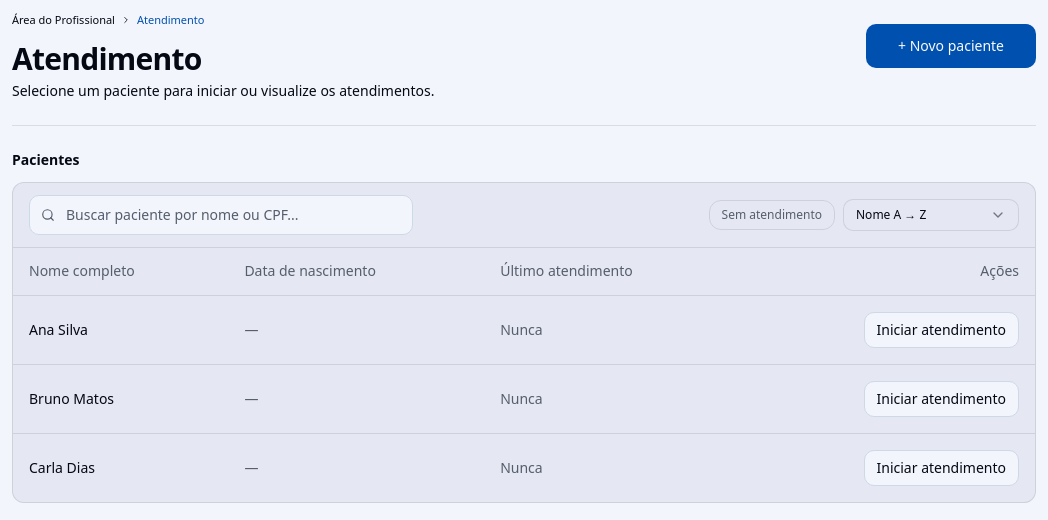
Scenario: ConsultationPageClient — busca de pacientes › filtra por CPF (somente dígitos)
The image size is (1048, 520).
In the search field with placeholder "Buscar paciente por nome ou CPF...": {"x": 221, "y": 214} [29,194,413,234], type "222"
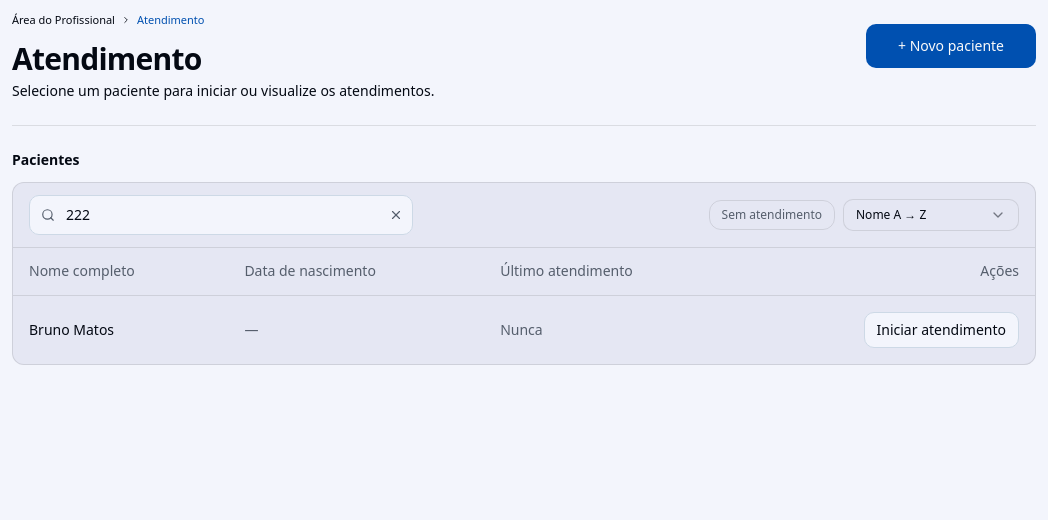
Expected: the text "Bruno Matos" is shown, [29,320,114,339]
Result: the text "Ana Silva" is gone
